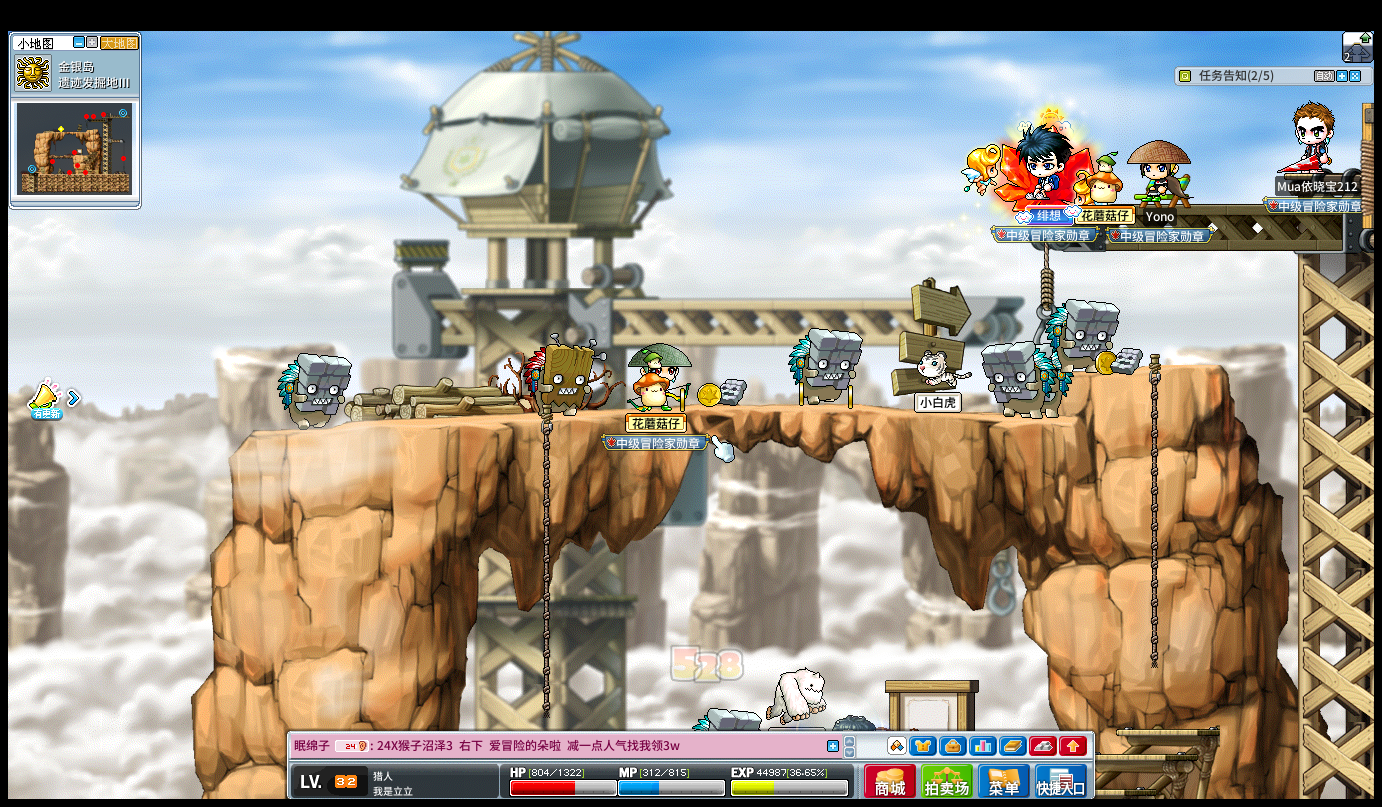floor: (242, 399, 1046, 432), (267, 398, 1125, 425), (1077, 357, 1227, 376), (1116, 725, 1221, 737), (1090, 752, 1193, 760)
monster: (786, 326, 862, 408), (524, 336, 601, 416), (276, 353, 351, 431), (981, 340, 1052, 419), (1050, 298, 1120, 374)
rope: (1145, 350, 1160, 671), (539, 407, 552, 767), (540, 398, 552, 665)
